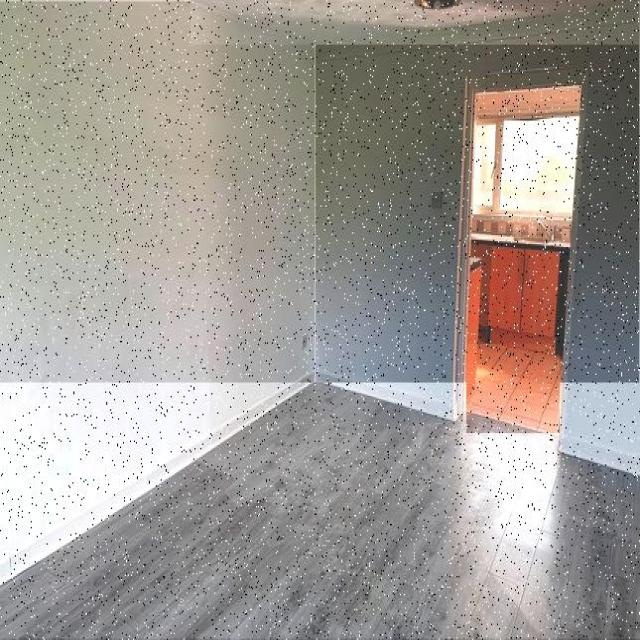Wall: (0, 2, 315, 582), (0, 384, 640, 639), (316, 23, 639, 473), (191, 0, 639, 45), (467, 345, 560, 433), (472, 215, 546, 238), (543, 220, 570, 241)
